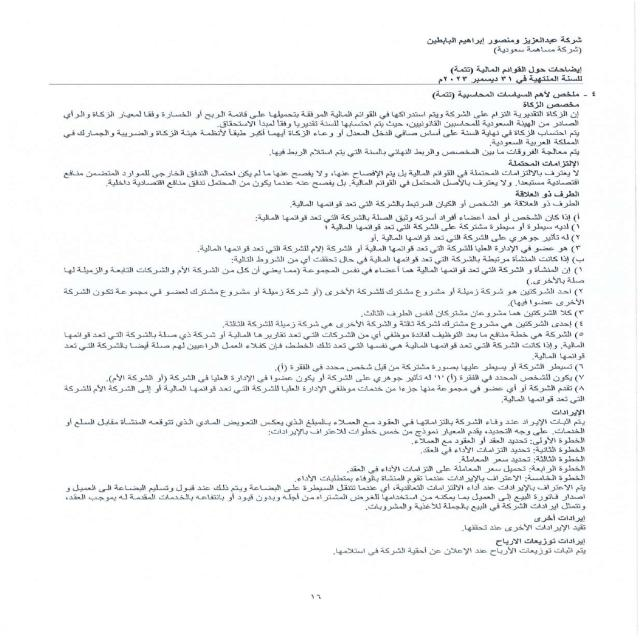notes: (442, 65, 587, 76)
text: (14, 88, 603, 572)
